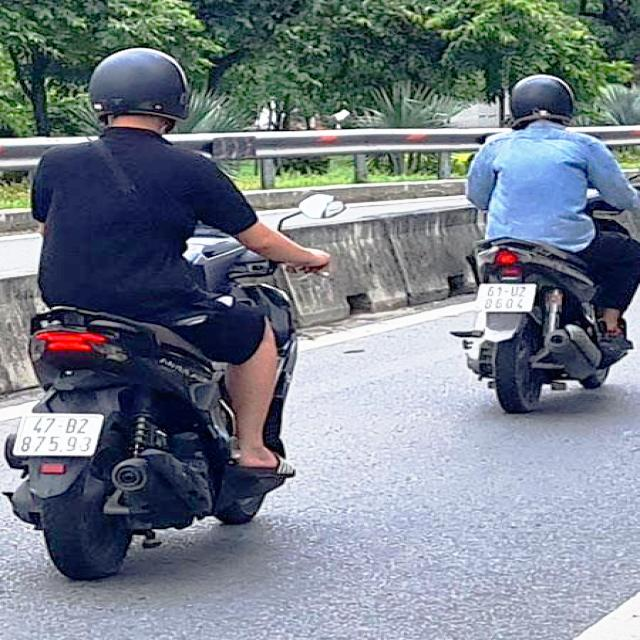license_plate: (13, 414, 103, 459)
